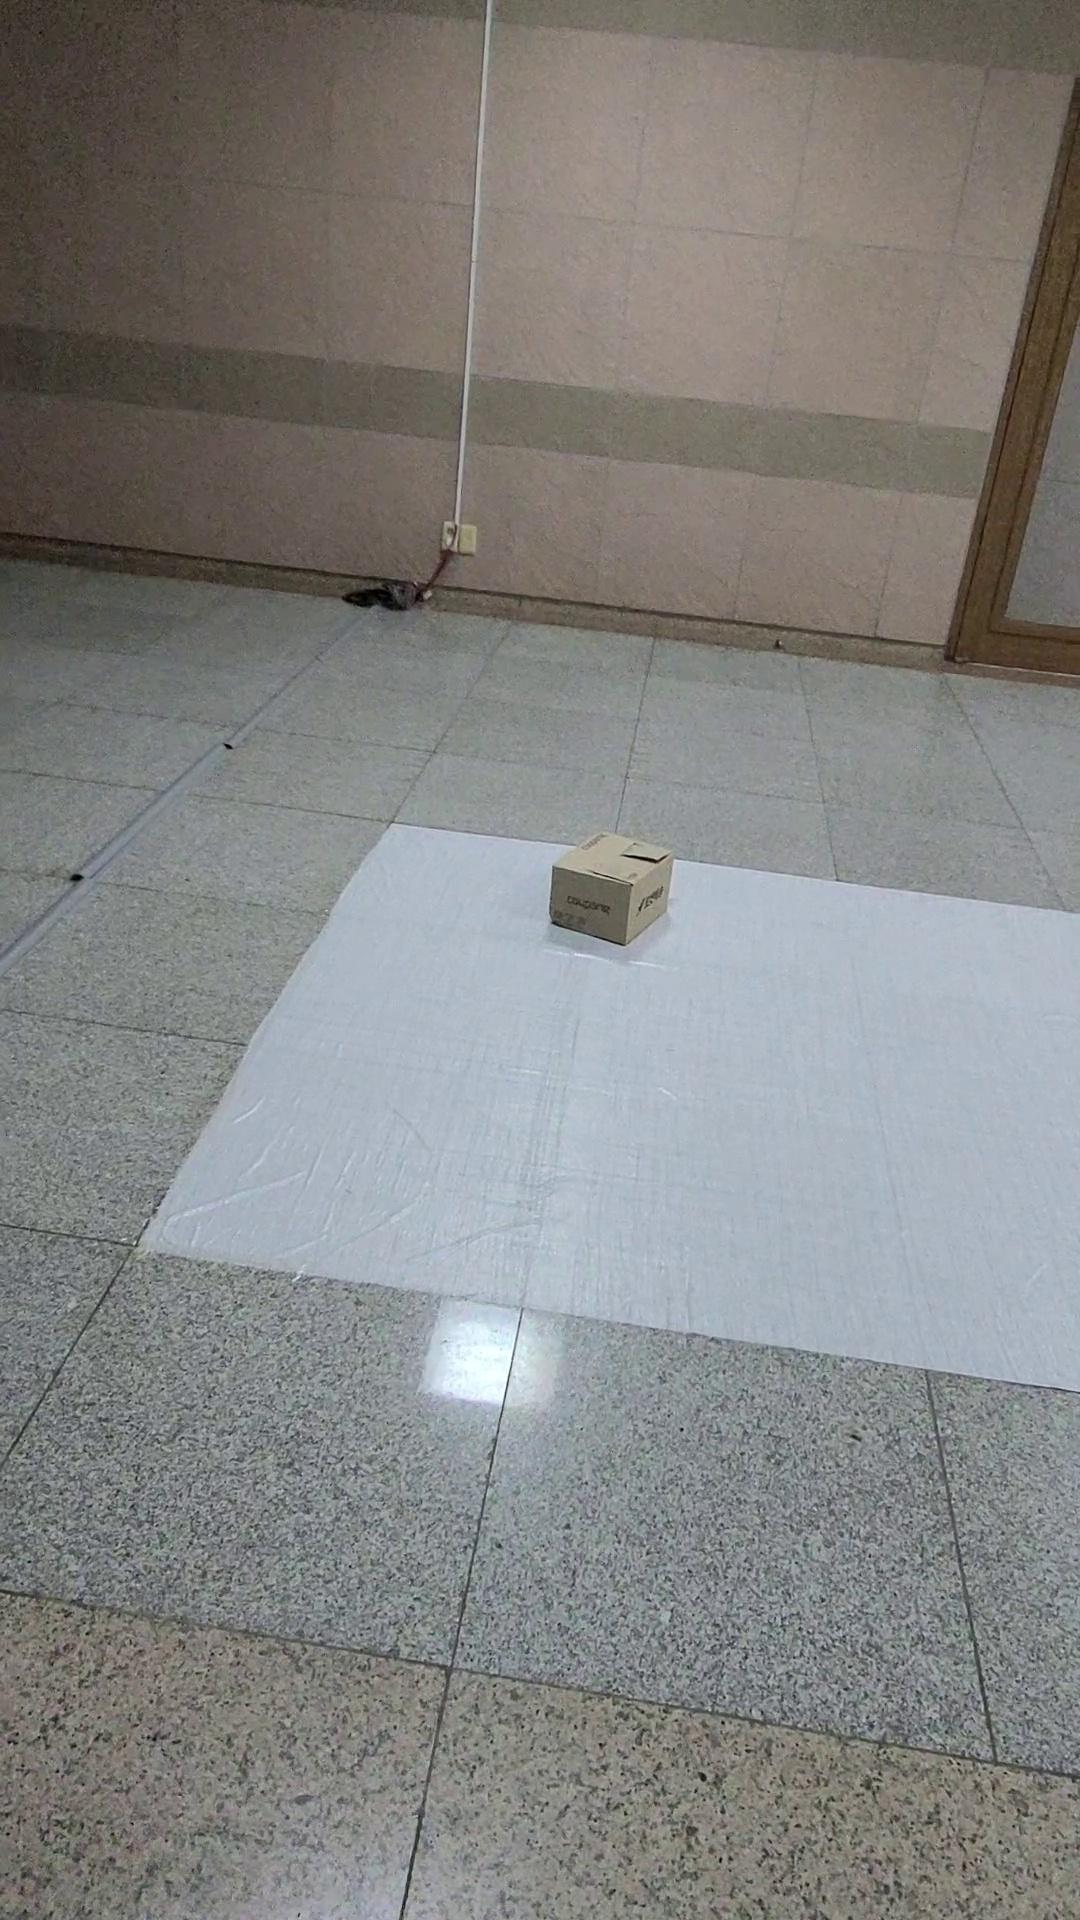Box: (506, 798, 704, 972)
